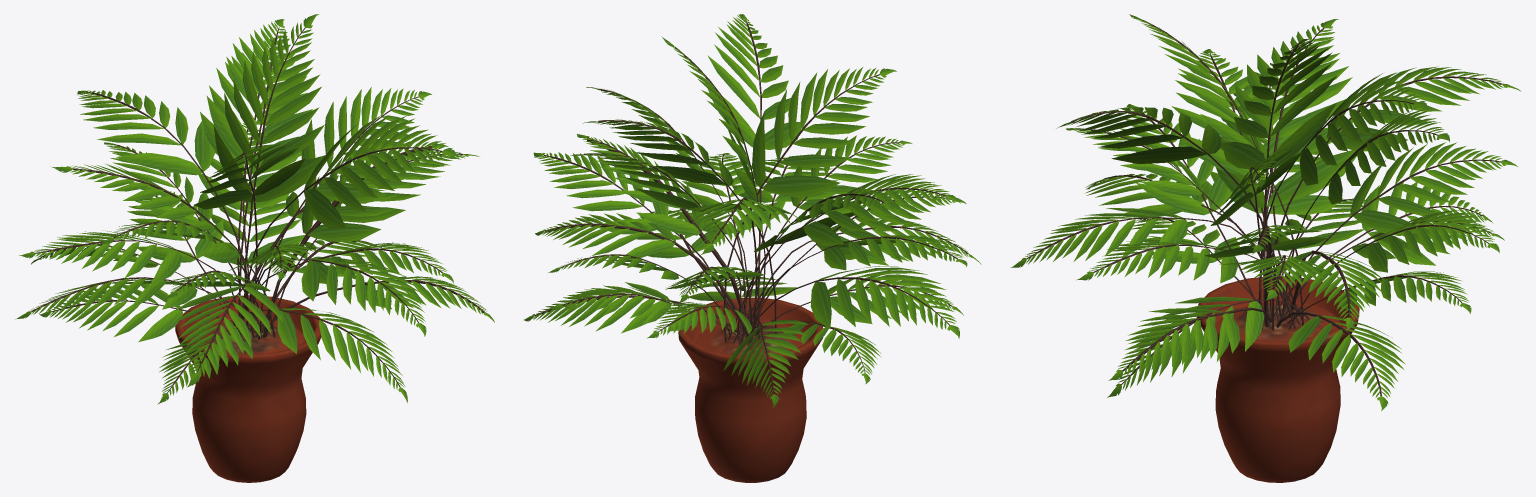
The model's file is EE_Planter_02.gltf.
3 renders of one model, left to right at view 1: azimuth 30°, elevation 25°; view 2: azimuth 150°, elevation 25°; view 3: azimuth 270°, elevation 25°, orthographic. The views are drawn at different scales.
Visible parts, largest first — view 1: EE_Planter_02_01.001; view 2: EE_Planter_02_01.001; view 3: EE_Planter_02_01.001.
Part boxes in pixels (x1,y1,x2,y2): EE_Planter_02_01.001: [15, 14, 494, 482]; EE_Planter_02_01.001: [524, 14, 981, 482]; EE_Planter_02_01.001: [1010, 14, 1521, 482].
Size of what is drawn, in the model's own units: 1.49 by 1.35 by 1.33.
1 material, 1 textured.
